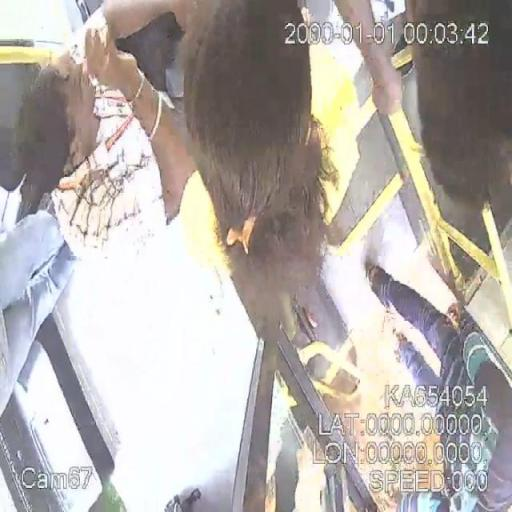persona: (179, 0, 362, 270), (10, 0, 196, 259), (366, 264, 512, 512), (1, 211, 75, 445)
